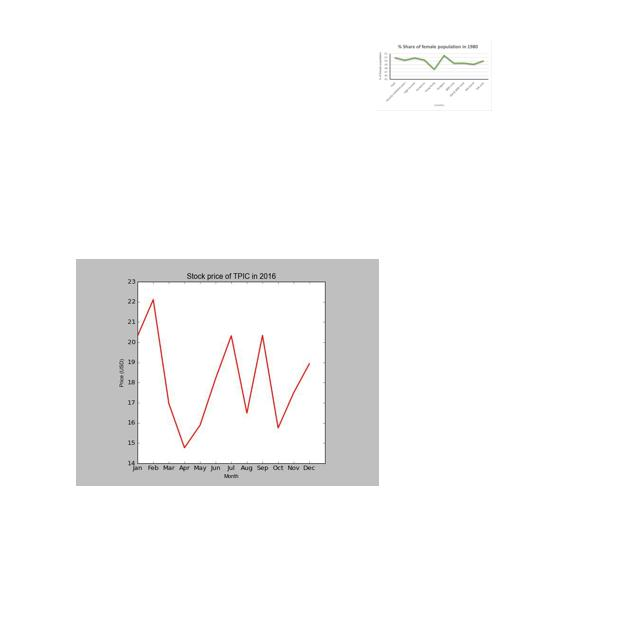Graph: (76, 259, 379, 486), (376, 41, 492, 111)
